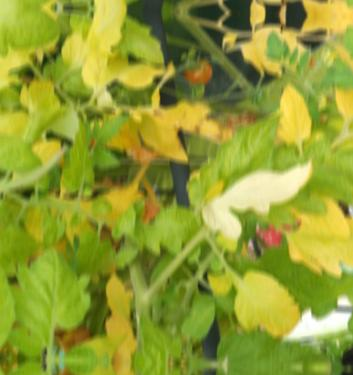Tomato leaf yellow virus: (10, 243, 100, 355), (129, 93, 238, 167), (229, 265, 311, 343), (0, 5, 73, 64), (277, 82, 320, 150)
